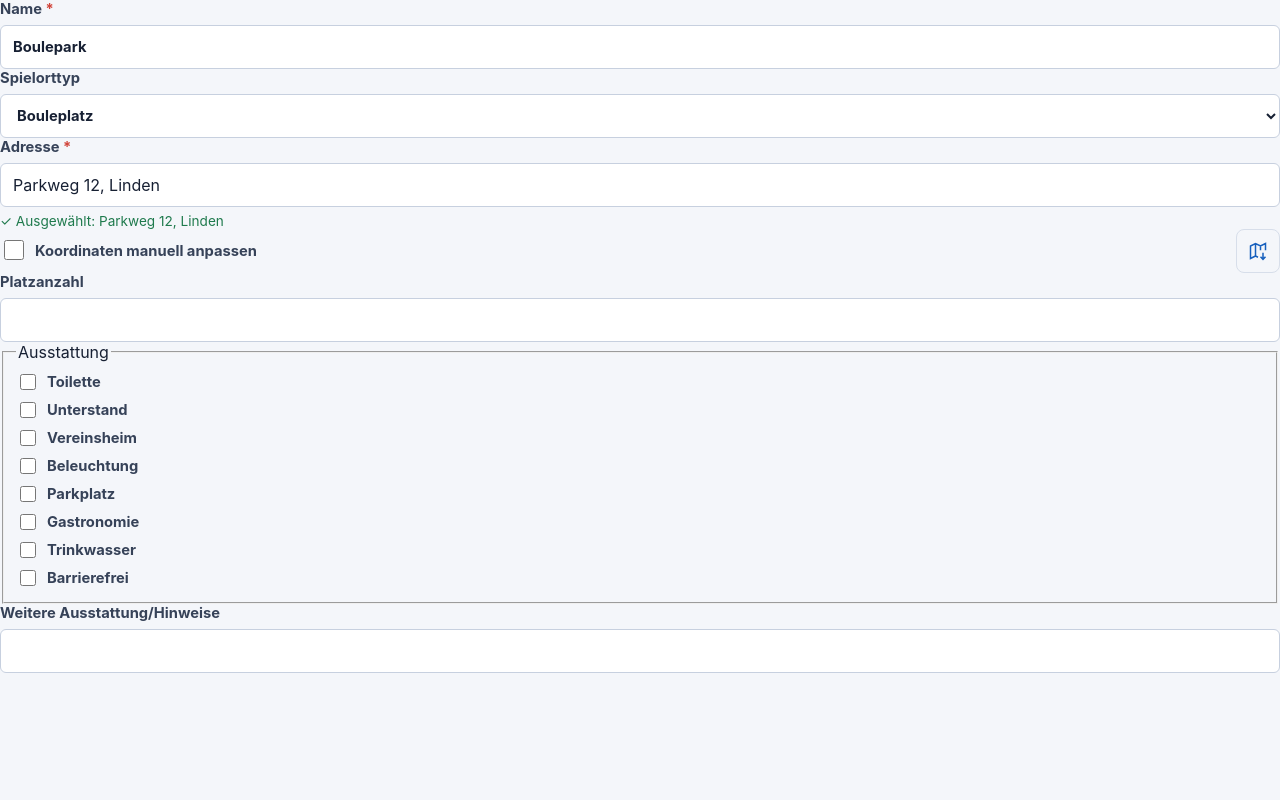
Test: Bouleplatz-Koordinaten › übernimmt Google-Maps-Koordinaten und lässt die Adresse unverändert
Click the button named "Koordinaten aus Google Maps importieren" at (1258, 251), box [1236,229,1279,273]
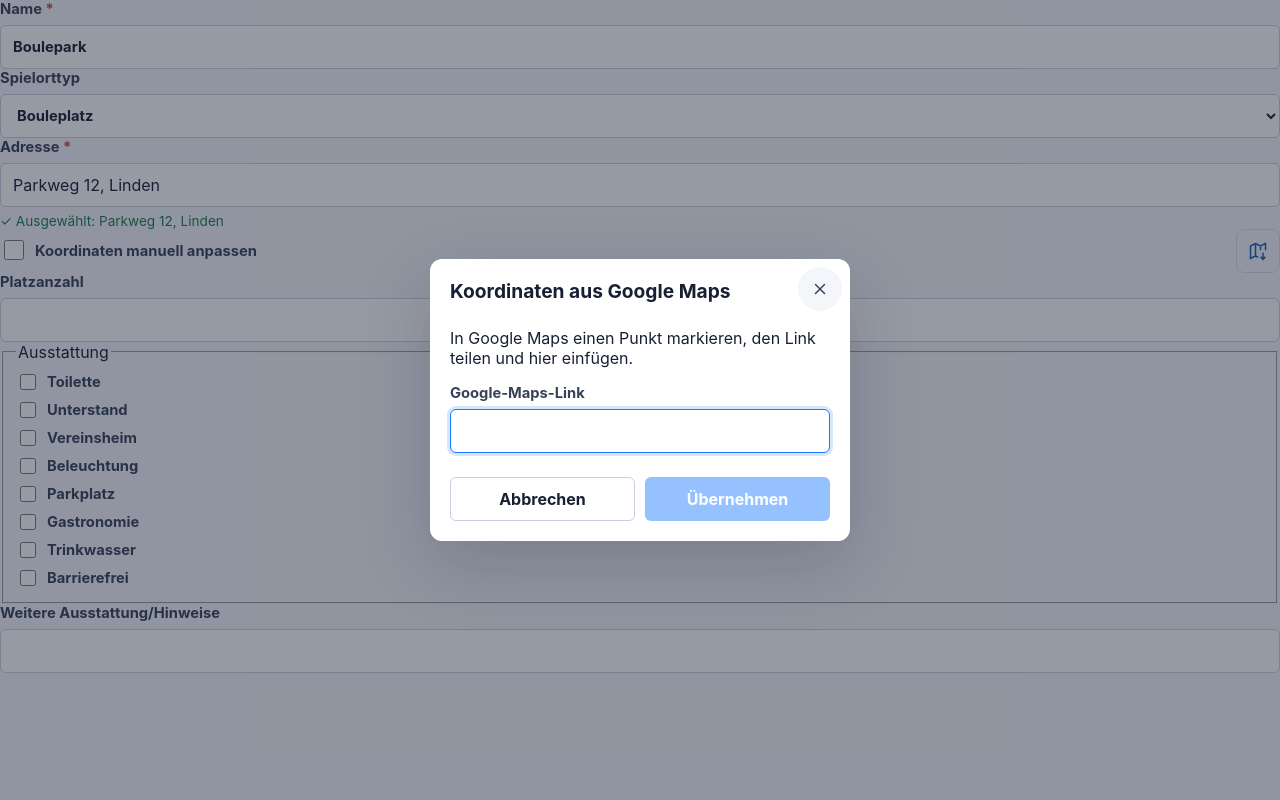
Type "https://www.google.com/maps?q=50.5000636,8.4206376" into the field labelled "Google-Maps-Link" at (640, 432), box [450,410,830,454]
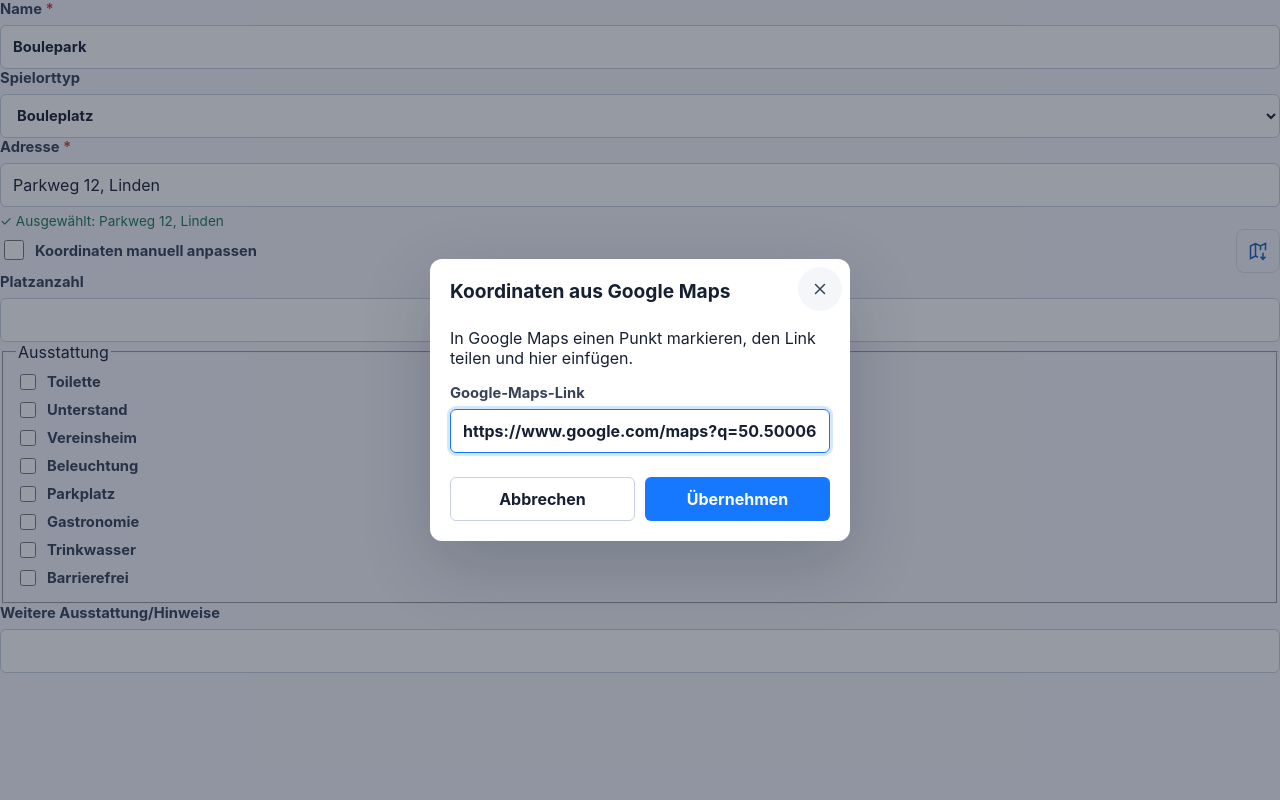
Click the button "Übernehmen" at (738, 500), box [645,478,830,522]
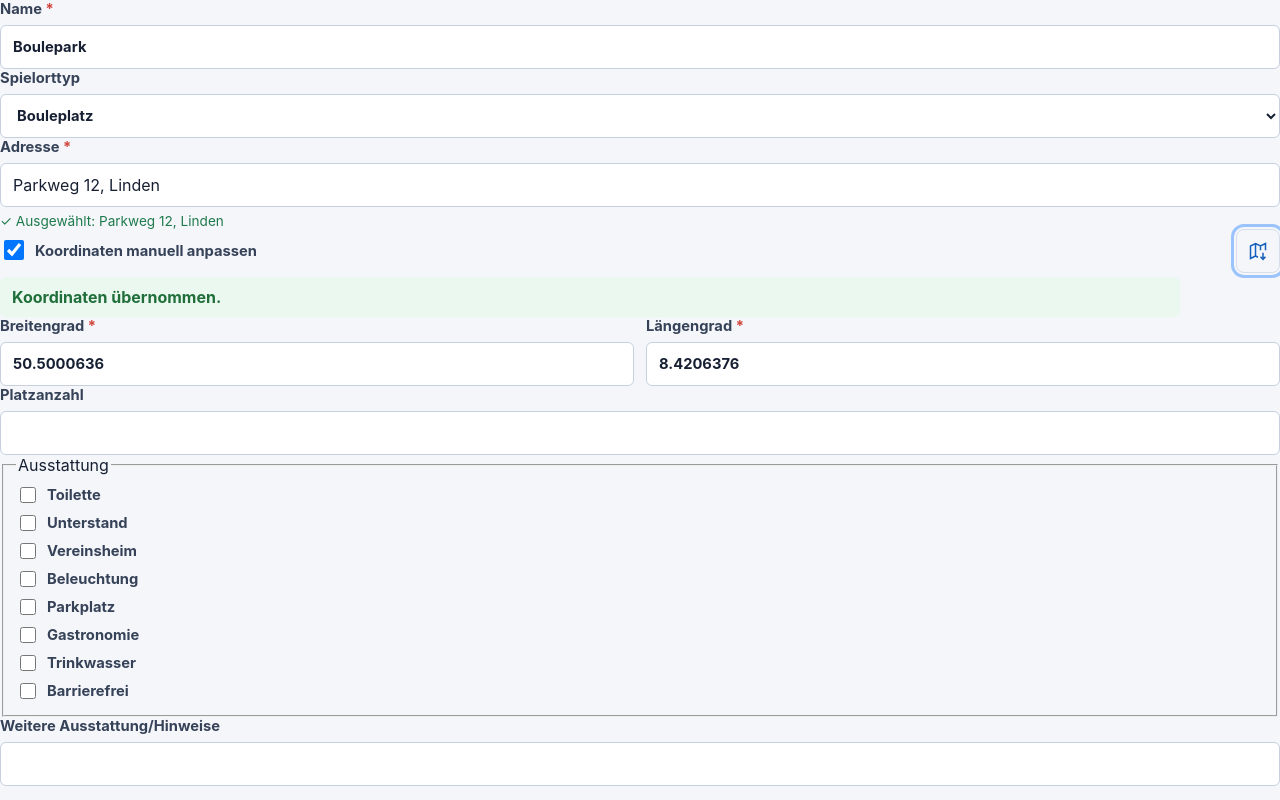
Expected: the checkbox labelled "Koordinaten manuell anpassen" is checked, [4,240,24,260]
Expected: the number field labelled "Breitengrad *" holds "50.5000636", [0,342,634,386]
Expected: the number field labelled "Längengrad *" holds "8.4206376", [646,342,1279,386]
